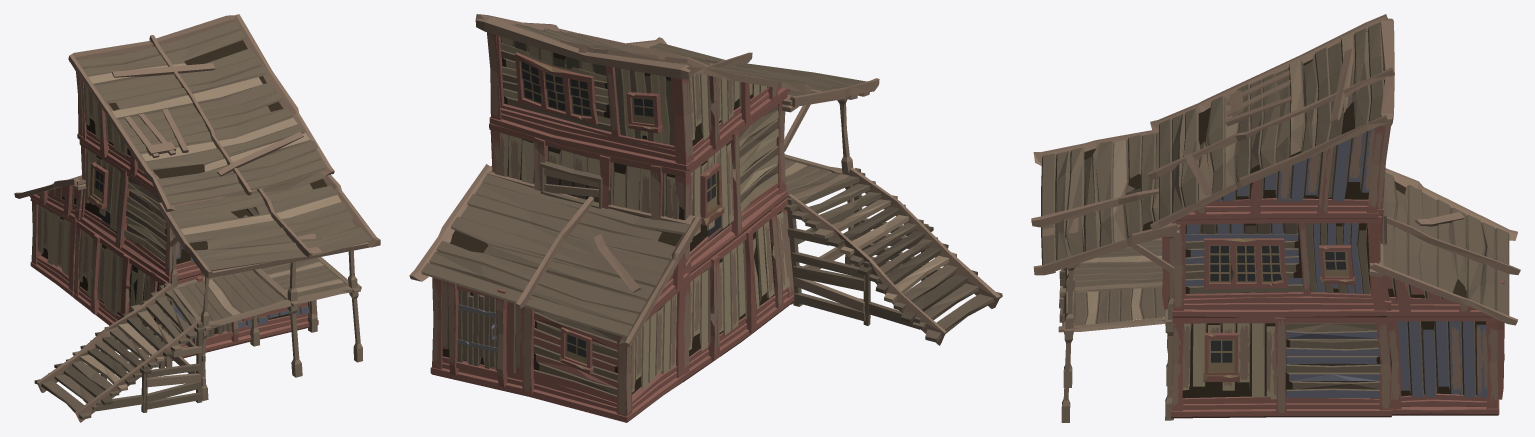
File: SM_Bld_Shanty_Preset_04.glb
3 renders of one model, left to right at view 1: azimuth 30°, elevation 25°; view 2: azimuth 150°, elevation 25°; view 3: azimuth 270°, elevation 25°, orthographic. The views are drawn at different scales.
Parts seen in each view (by area): view 1: SM_Bld_Shanty_Preset_04_part00; view 2: SM_Bld_Shanty_Preset_04_part00; view 3: SM_Bld_Shanty_Preset_04_part00.
Boxes of the visible parts, x1,y1,x2,y2 form: SM_Bld_Shanty_Preset_04_part00: [14, 14, 380, 422]; SM_Bld_Shanty_Preset_04_part00: [409, 14, 1002, 422]; SM_Bld_Shanty_Preset_04_part00: [1031, 14, 1520, 422].
Bounding box in the file's own units: 9.34 × 7.85 × 11.13.
Materials: 1 (1 with a texture image).
